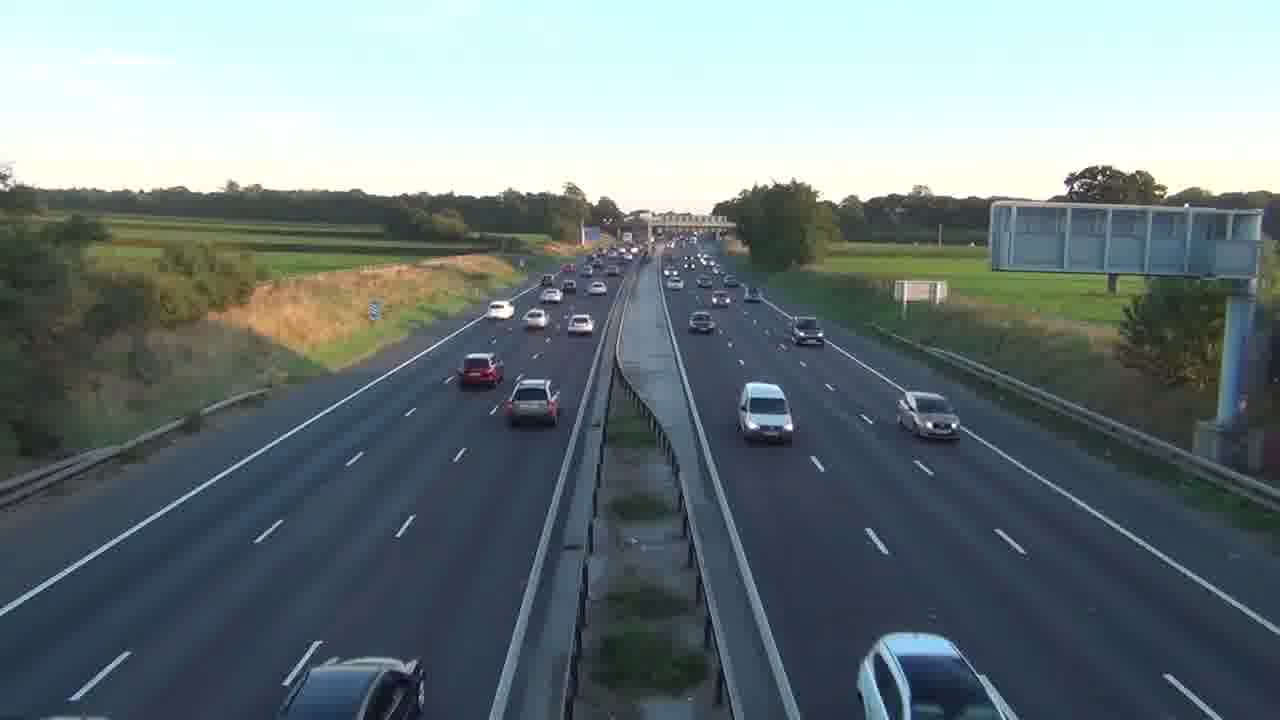car: (855, 630, 1021, 718), (274, 641, 428, 718), (896, 390, 960, 441), (505, 377, 561, 427), (460, 352, 504, 389), (688, 311, 716, 335), (567, 312, 594, 336), (524, 308, 546, 329)
truck: (737, 381, 797, 445)
